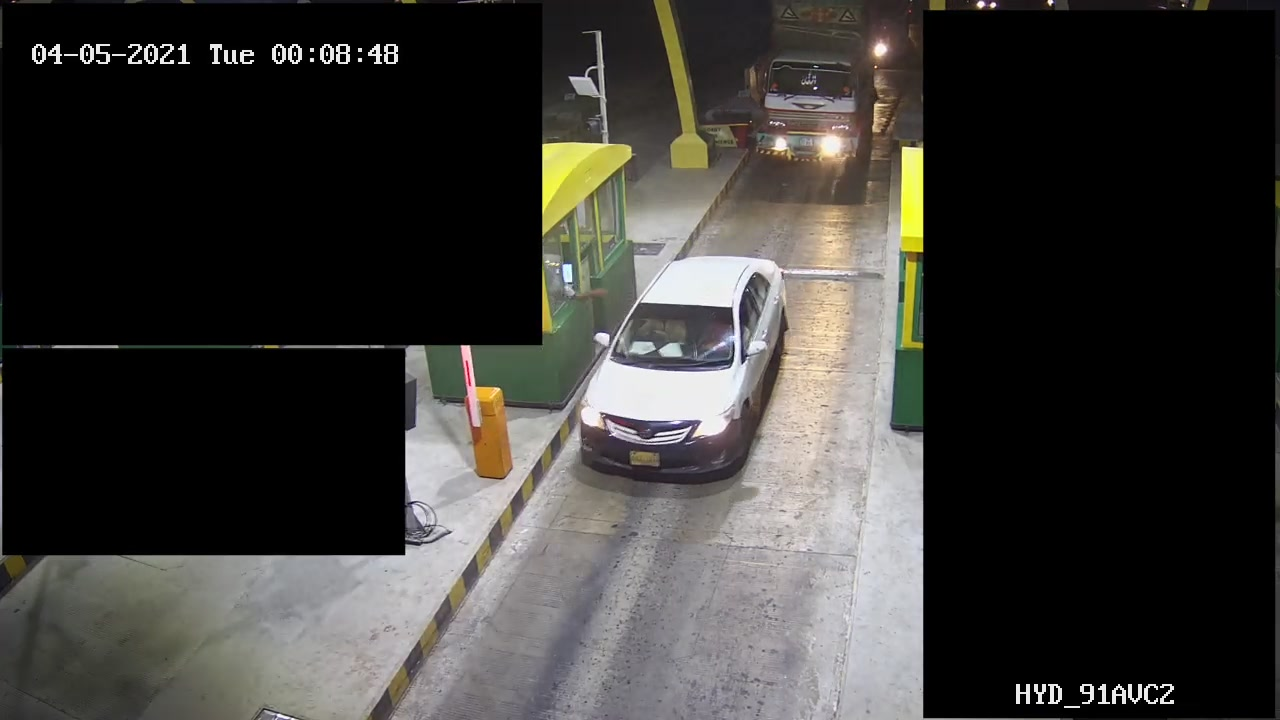F1: (570, 247, 795, 497)
